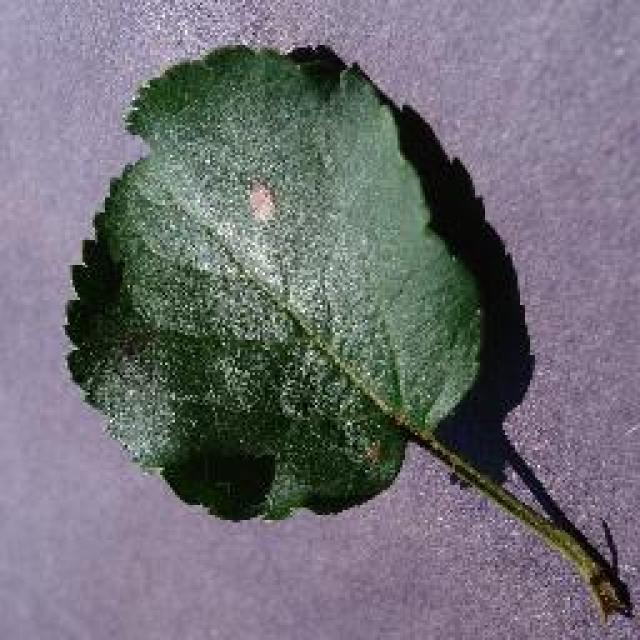Black_rot: (60, 40, 632, 622)
